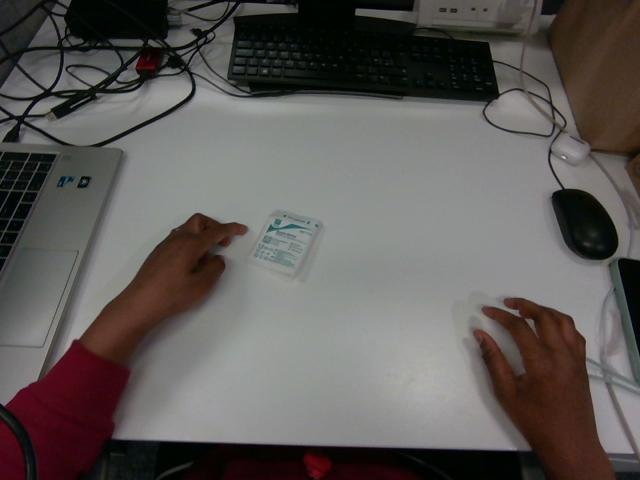gauze: (247, 210, 322, 279)
